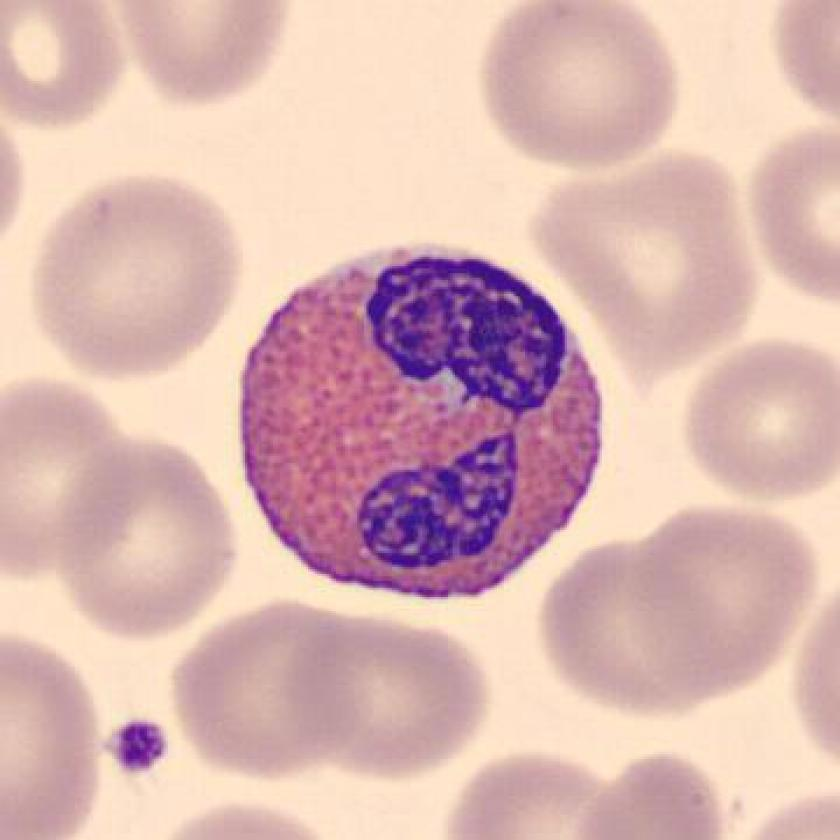eosinophil: (227, 230, 617, 614)
